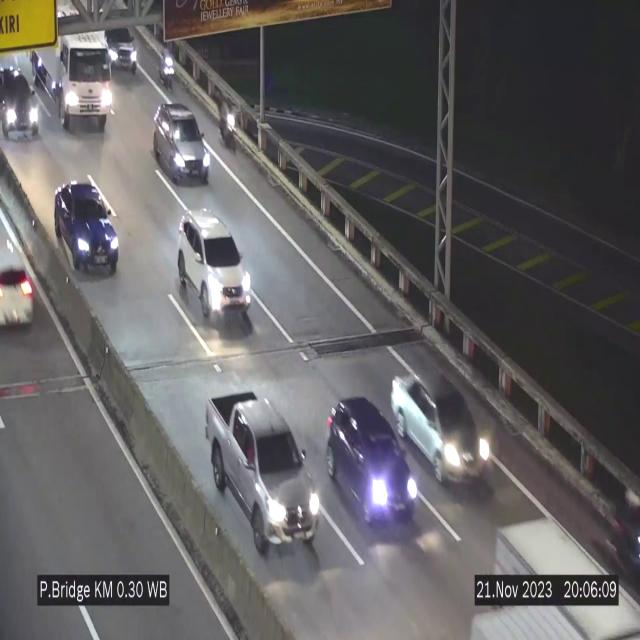Car: (204, 395, 320, 577), (327, 394, 424, 538), (394, 368, 486, 494), (177, 211, 251, 327), (54, 182, 118, 274), (154, 102, 210, 184), (0, 69, 41, 135)
Motorcycle: (218, 90, 240, 163), (158, 43, 176, 87)
